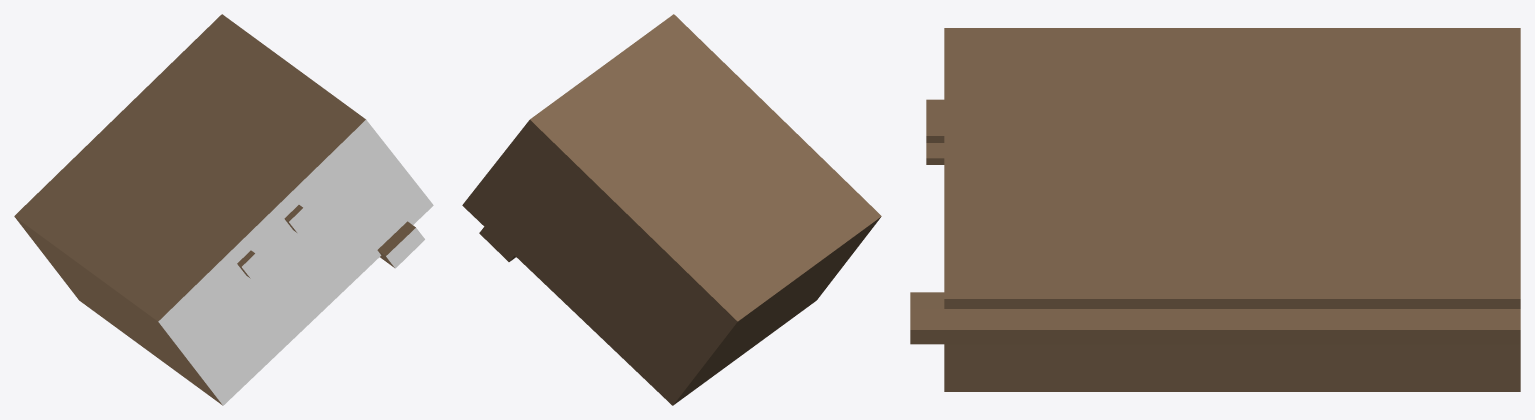
3 views of the same model, side by side, from view 1: azimuth 30°, elevation 25°; view 2: azimuth 150°, elevation 25°; view 3: azimuth 270°, elevation 25° (orthographic). The views are drawn at different scales.
Parts seen in each view (by area): view 1: City_PC-08612; view 2: City_PC-08612; view 3: City_PC-08612.
Part boxes in pixels (x1,y1,x2,y2): City_PC-08612: (14,14,433,405); City_PC-08612: (462,14,881,405); City_PC-08612: (910,28,1520,391).
Bounding box in the file's own units: 1448 × 1263 × 1389.
